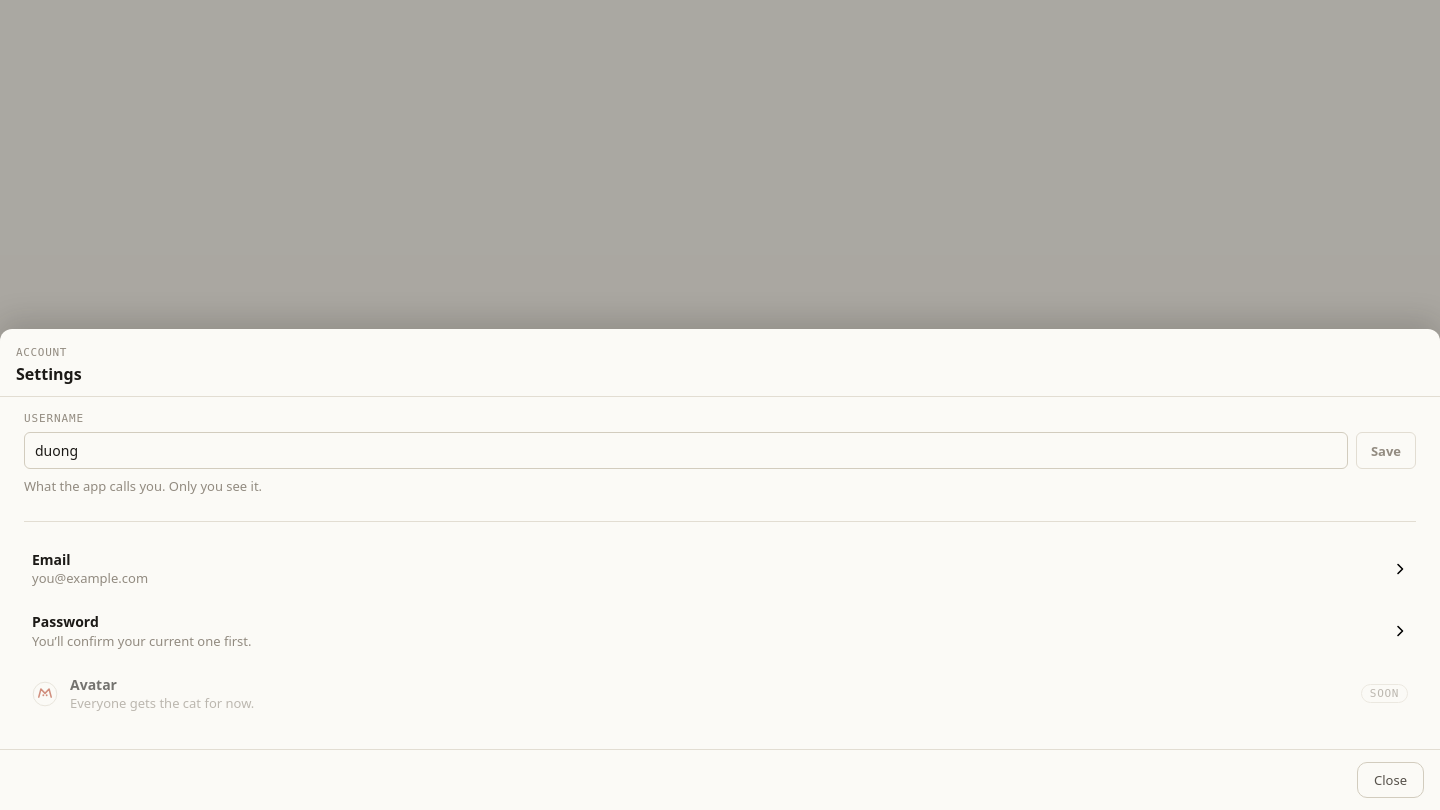
AccountSettings › a real change saves the trimmed value and says so
Replace the text in the field labelled "Username" with "  beaver  " at (686, 451), box [24,432,1348,469]
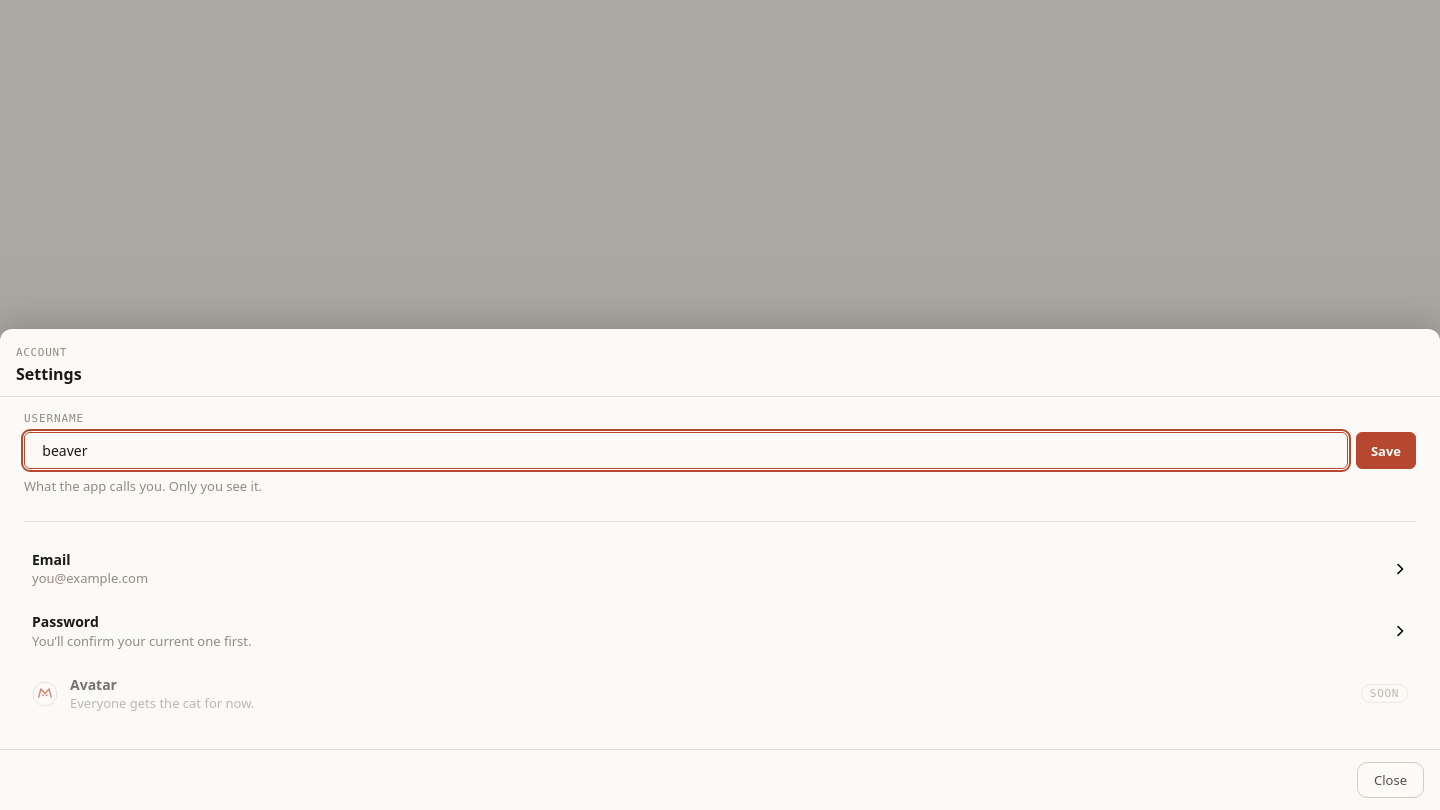
Click the button "Save" at (1386, 451), box [1356,432,1416,469]
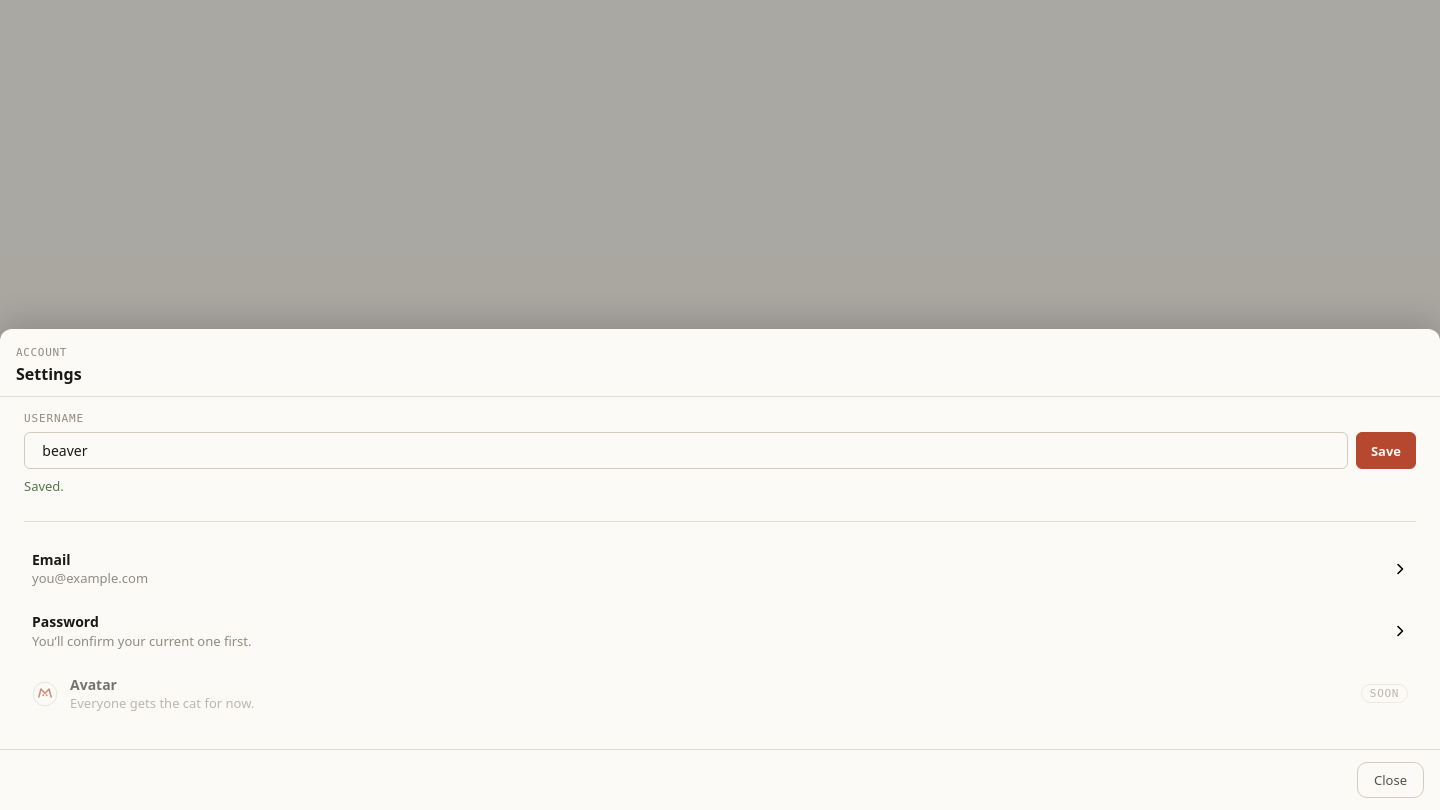
Check: the text "Saved." is shown, box [24,477,64,495]
